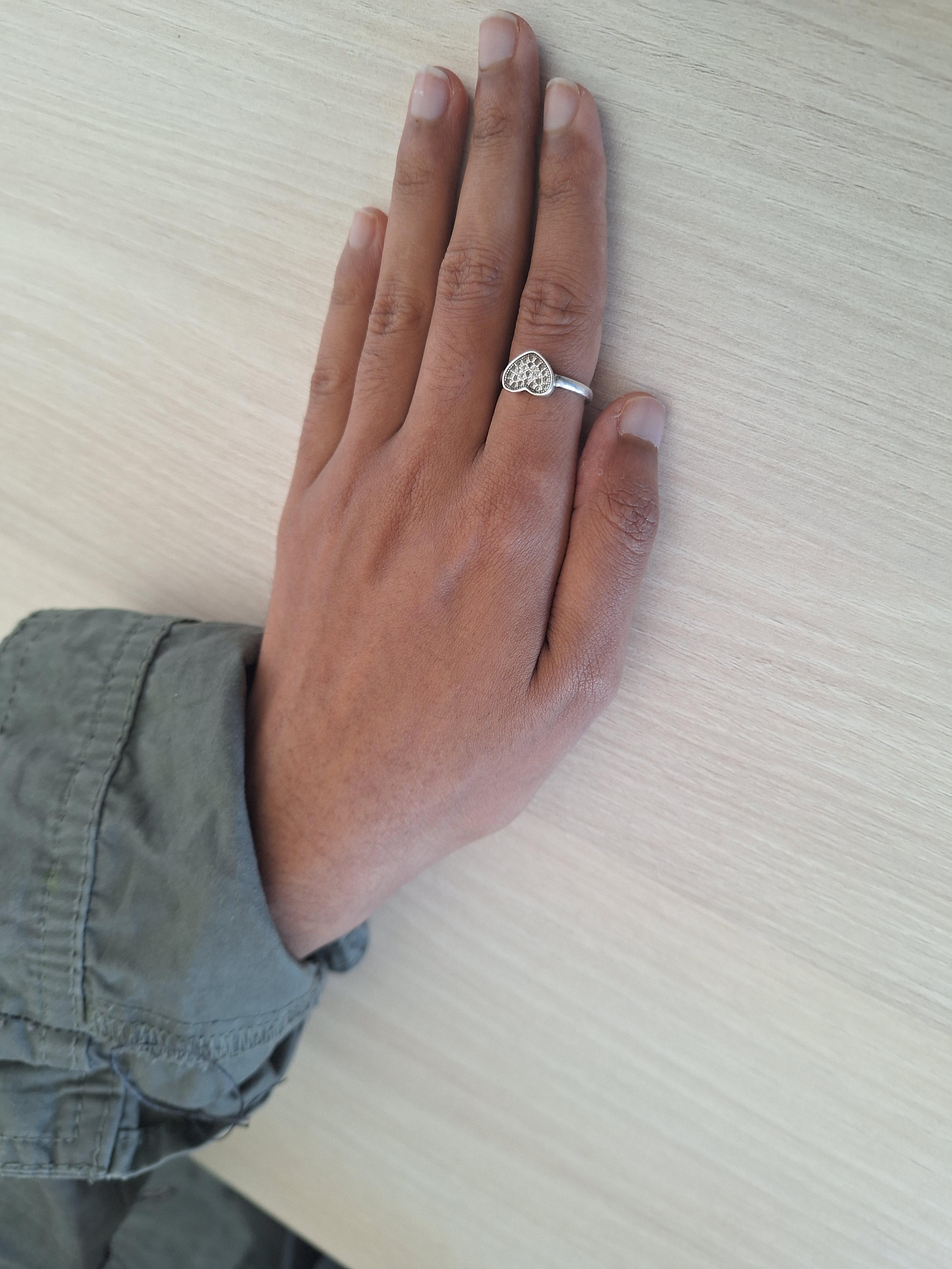Fingernail: (478, 10, 519, 70), (619, 396, 666, 446), (411, 66, 452, 120), (543, 77, 581, 132), (348, 210, 378, 252)
